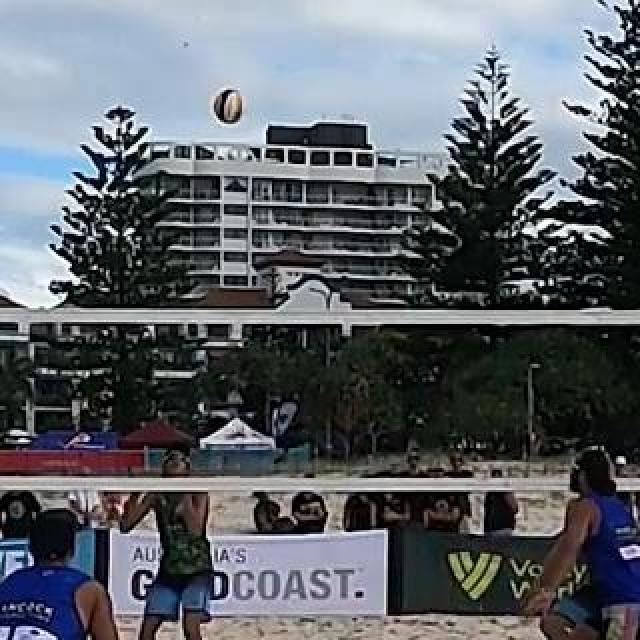volleyball: (213, 89, 247, 123)
